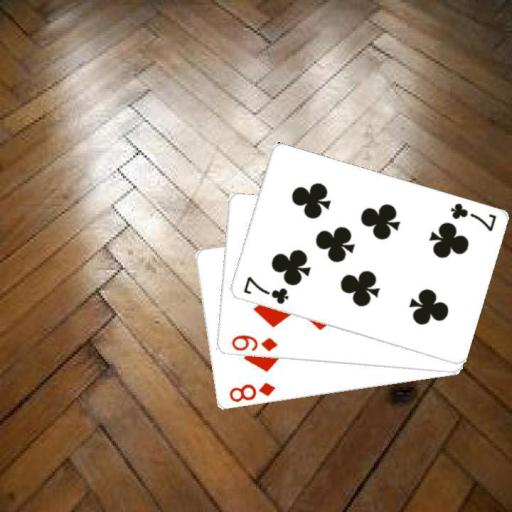7C: (447, 200, 498, 233), (240, 273, 290, 306)
8D: (226, 380, 277, 404)
9D: (228, 332, 279, 354)
